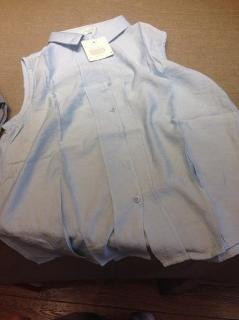vest dress: (0, 15, 239, 268)
